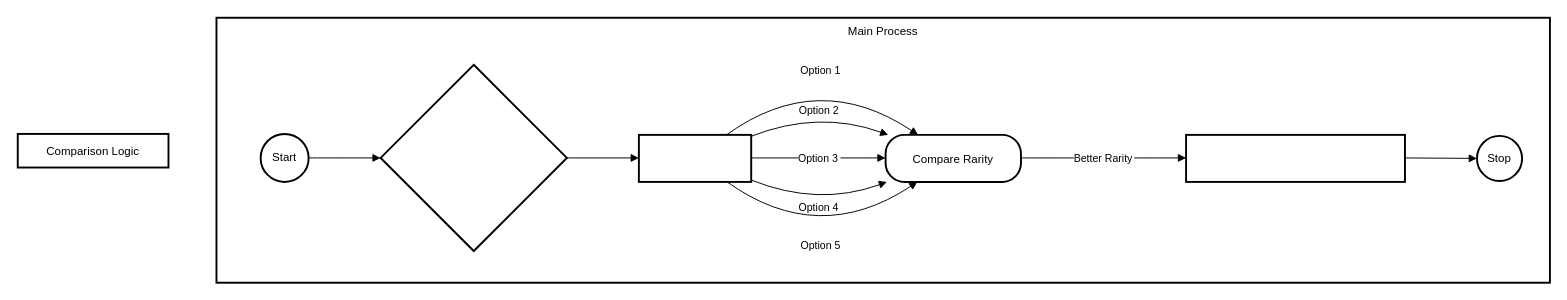
The diagram is 1567 pixels wide and 300 high, and some of its shapes have lost their labels. Here are the shapes that lost their labels. From the top down, the centre of each, then its label:
At (x=473, y=157): "Get 5 Rarity Options".
At (x=694, y=157): "Analysis".
At (x=1295, y=157): "Better Rarity Identified".
